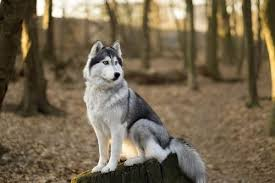Bulldog: (60, 29, 229, 178)
